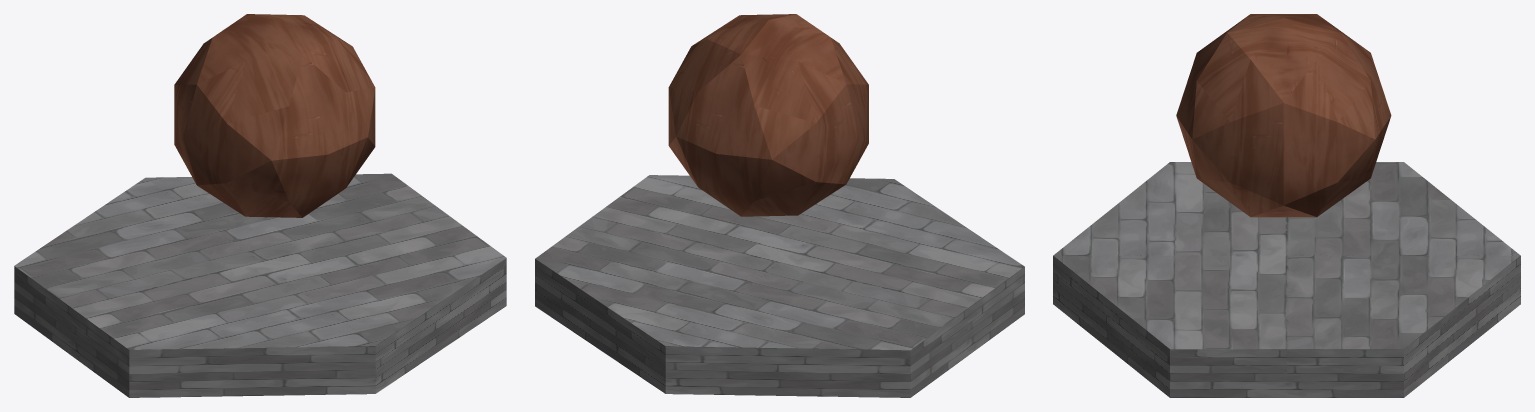
File: Nexus.fbx
3 views of the same model, side by side, from view 1: azimuth 30°, elevation 25°; view 2: azimuth 150°, elevation 25°; view 3: azimuth 270°, elevation 25° (orthographic). The views are drawn at different scales.
Parts seen in each view (by area): view 1: mergedBlocks; view 2: mergedBlocks; view 3: mergedBlocks.
Boxes of the visible parts, bbox=[...] form: mergedBlocks: bbox=[14, 14, 506, 397]; mergedBlocks: bbox=[535, 14, 1024, 397]; mergedBlocks: bbox=[1053, 14, 1520, 397].
Bounding box in the file's own units: 20.59 × 15 × 21.73.
